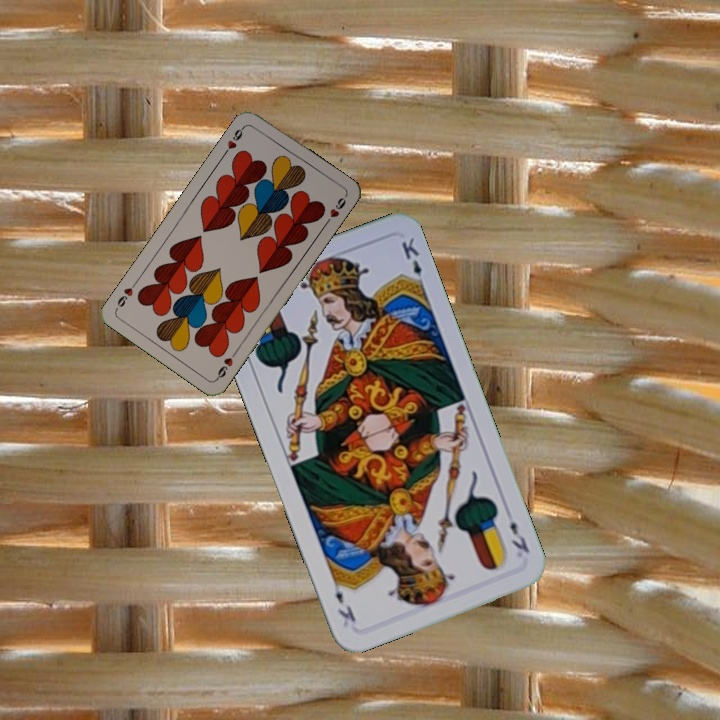EK: (506, 517, 532, 556)
H9: (212, 346, 240, 382), (220, 122, 248, 157)
